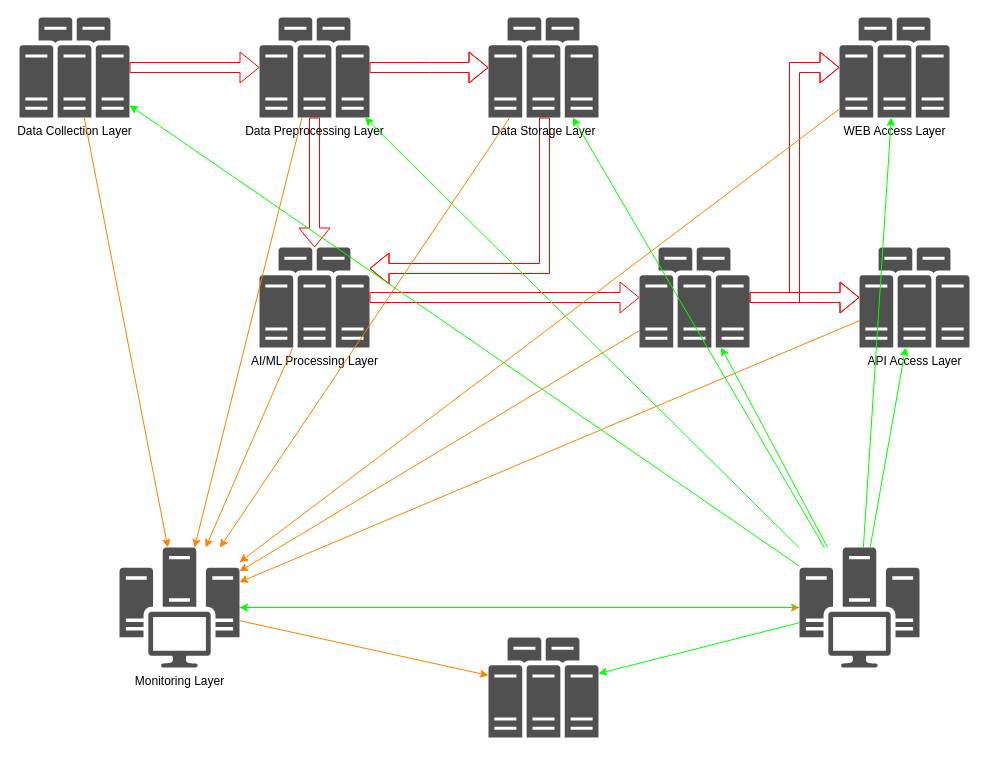
The diagram is 987 pixels wide and 775 high, and some of its shapes have lost their labels. The box of each missing label's shape, as (x1, y1, x2, y2) in pixels:
Management Layer: (799, 547, 919, 667)
Reporting Layer: (639, 247, 749, 347)
System Alerts: (488, 637, 598, 737)
